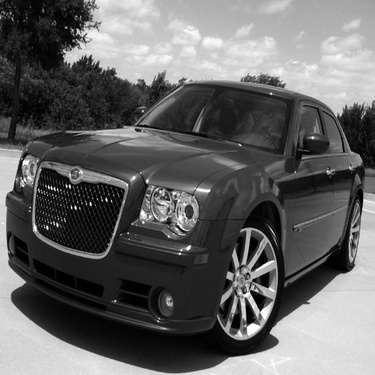car: (2, 75, 368, 356)
